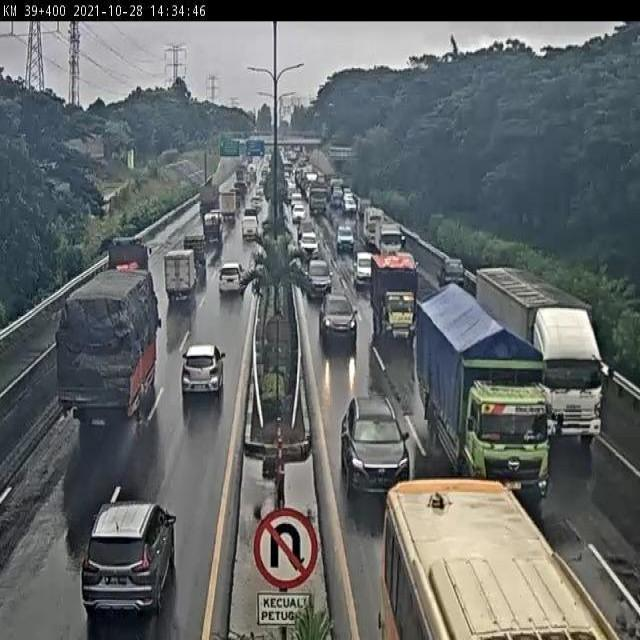big bus: (378, 480, 616, 640)
big truck: (420, 283, 548, 497), (474, 265, 604, 432), (58, 265, 161, 412)
car: (80, 499, 173, 624), (343, 391, 409, 492), (184, 340, 226, 393), (319, 293, 360, 344), (353, 252, 382, 287), (440, 252, 464, 287), (307, 261, 331, 295), (334, 221, 359, 252), (218, 264, 244, 293), (299, 232, 322, 260)
small truck: (374, 253, 418, 340), (106, 232, 151, 279), (164, 248, 198, 299), (375, 219, 408, 264), (360, 205, 387, 248), (183, 237, 209, 268)
